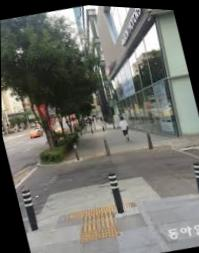Animal: (14, 183, 44, 229), (100, 167, 123, 213), (180, 154, 199, 205)
